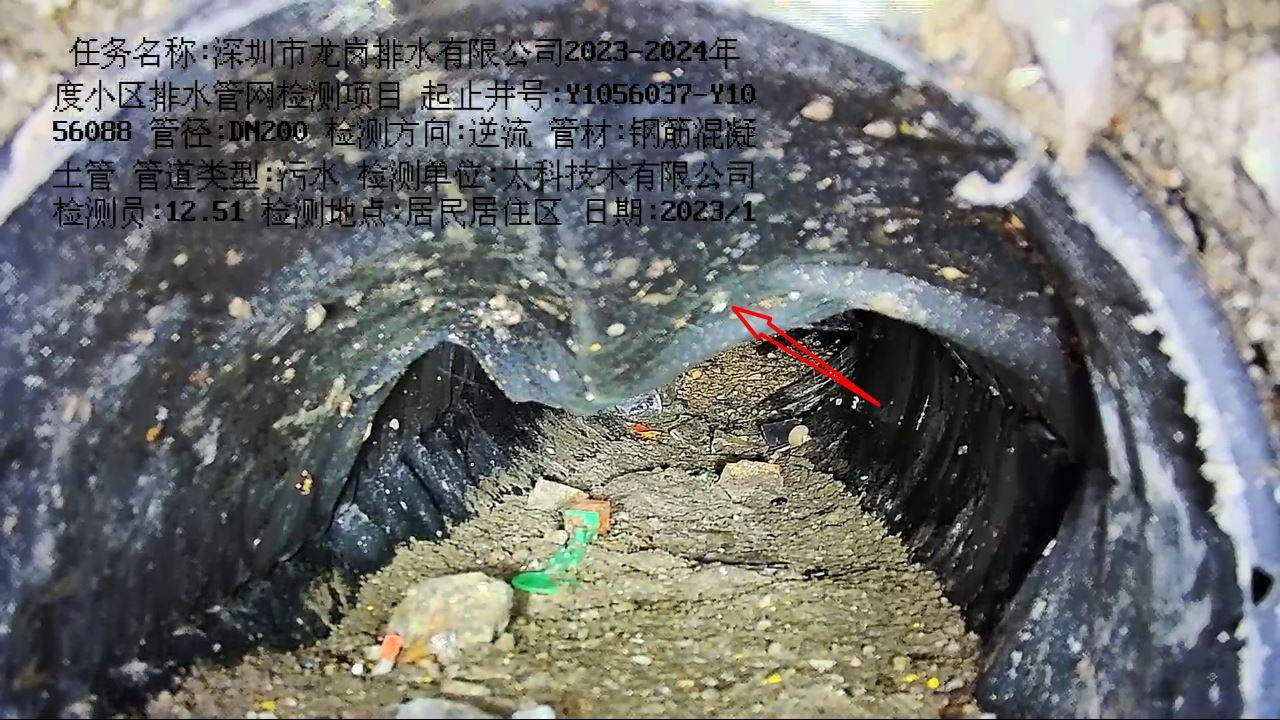BX: (255, 114, 975, 420)
